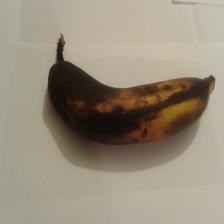Banana Rotten: (39, 24, 218, 147)
